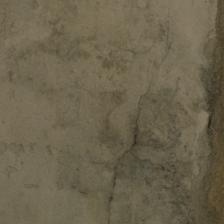Crack: (106, 68, 159, 219)
